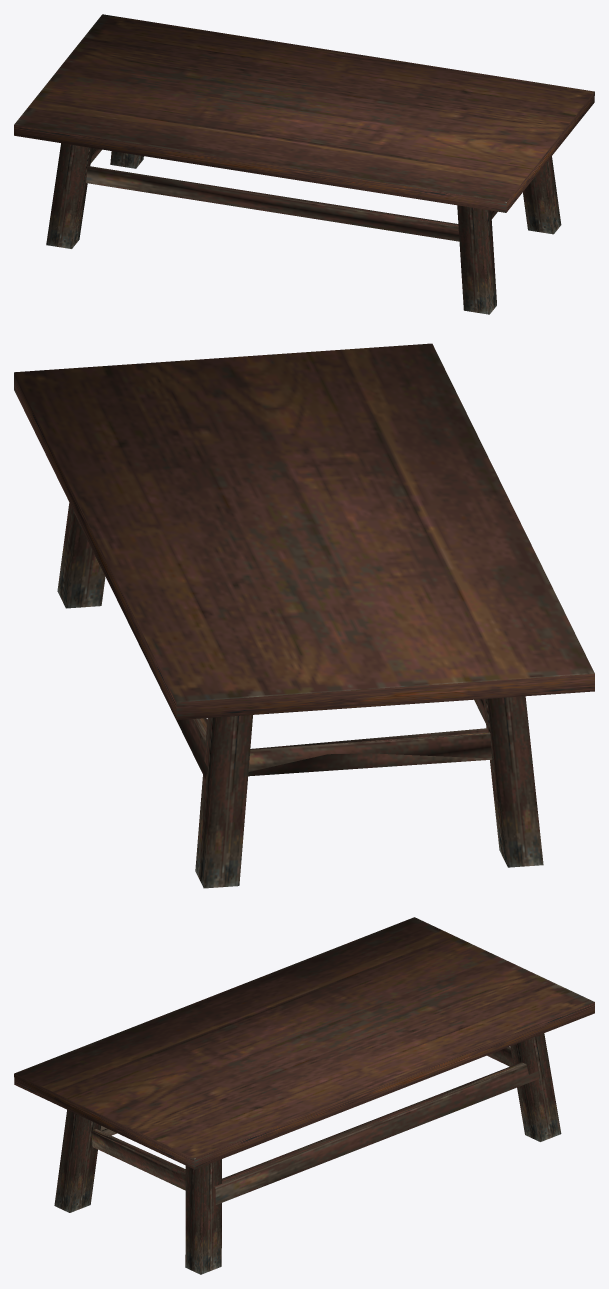
The model's file is xsz_xiguazhuo_1.FBX.
3 views of the same model, one above another, from view 1: azimuth 30°, elevation 25°; view 2: azimuth 150°, elevation 25°; view 3: azimuth 270°, elevation 25° (orthographic). The views are drawn at different scales.
Visible parts, largest first — view 1: xsz_xiguazhuo_1; view 2: xsz_xiguazhuo_1; view 3: xsz_xiguazhuo_1.
Boxes of the visible parts, <box> form: xsz_xiguazhuo_1: <box>14,14,594,314</box>; xsz_xiguazhuo_1: <box>14,343,594,888</box>; xsz_xiguazhuo_1: <box>14,917,594,1274</box>.
Bounding box in the file's own units: 4.82 × 1.34 × 4.99.
